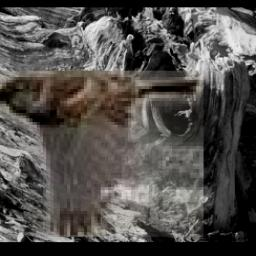Sparrow: (0, 72, 204, 238)
